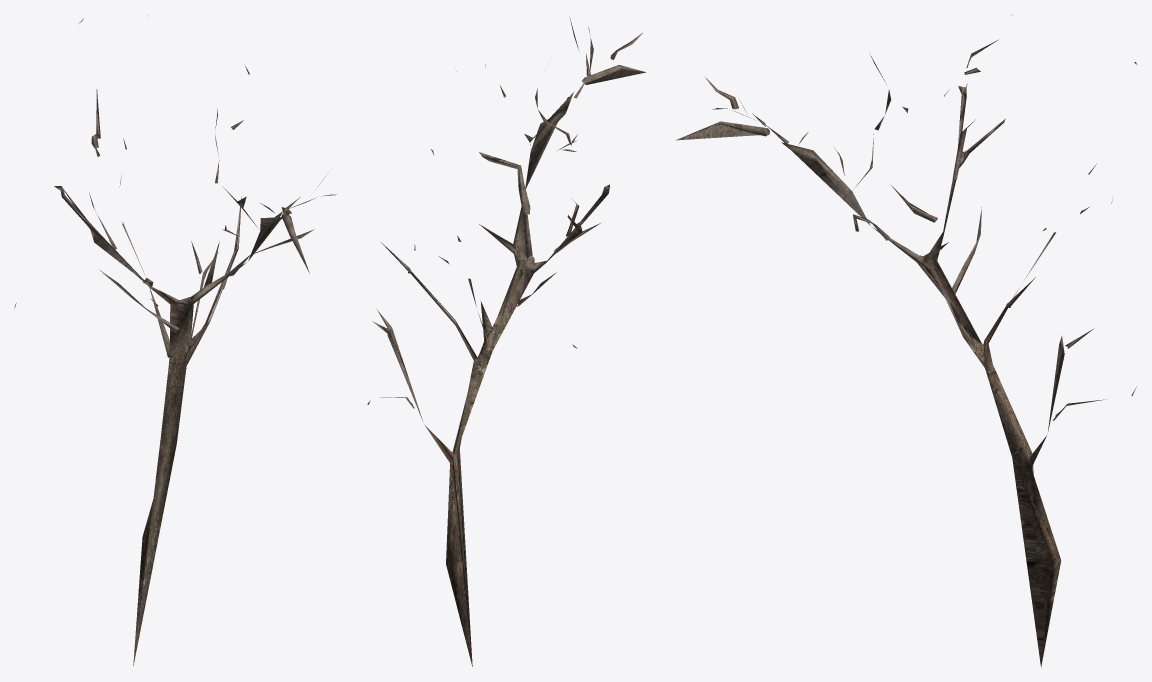
Rendered from vancouver-street-tree-branches-distant.glb.
3 renders of one model, left to right at view 1: azimuth 30°, elevation 25°; view 2: azimuth 150°, elevation 25°; view 3: azimuth 270°, elevation 25°, orthographic. The views are drawn at different scales.
Parts seen in each view (by area): view 1: tree_small_02_LOD0; view 2: tree_small_02_LOD0; view 3: tree_small_02_LOD0.
Boxes of the visible parts, box(x1,y1,x2,y2) form: tree_small_02_LOD0: box(14, 15, 336, 665); tree_small_02_LOD0: box(367, 17, 646, 666); tree_small_02_LOD0: box(676, 14, 1136, 667).
Bounding box in the file's own units: 1.43 × 4.03 × 2.58.
Materials: 2 (2 with a texture image).
